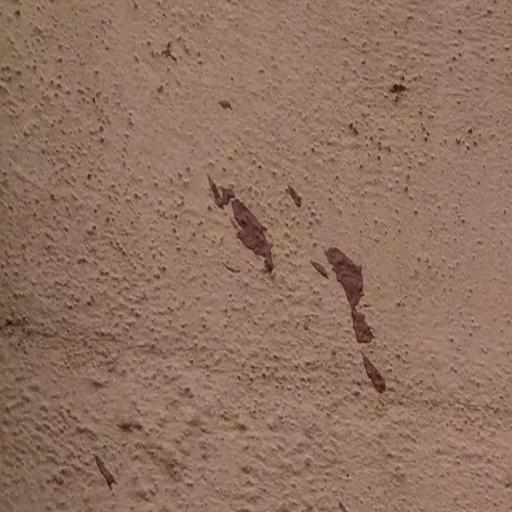stain: (184, 153, 423, 407), (66, 452, 123, 494)
